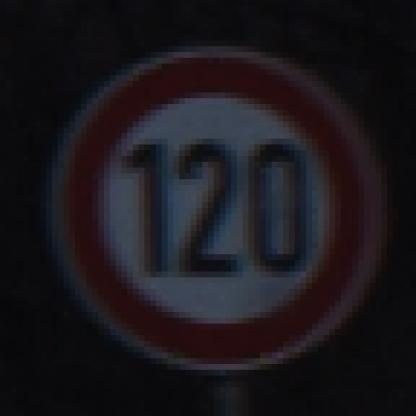Speed Limit 120: (66, 56, 373, 366)
